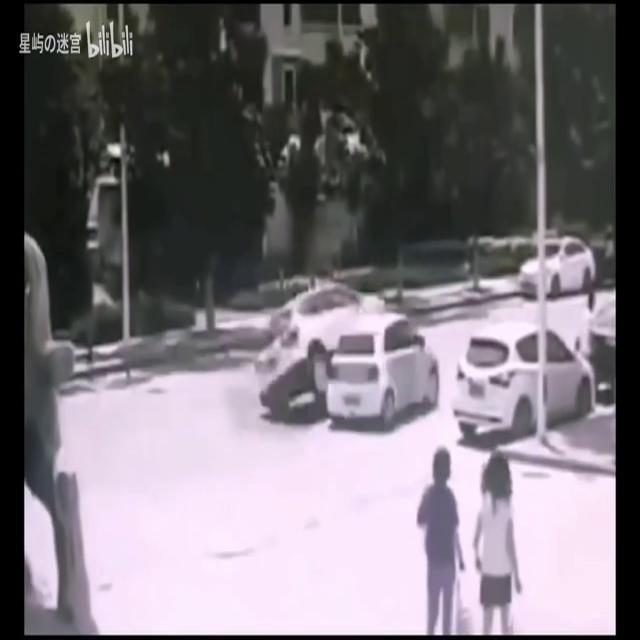accident: (252, 280, 440, 434)
non-accident: (450, 234, 598, 446)
